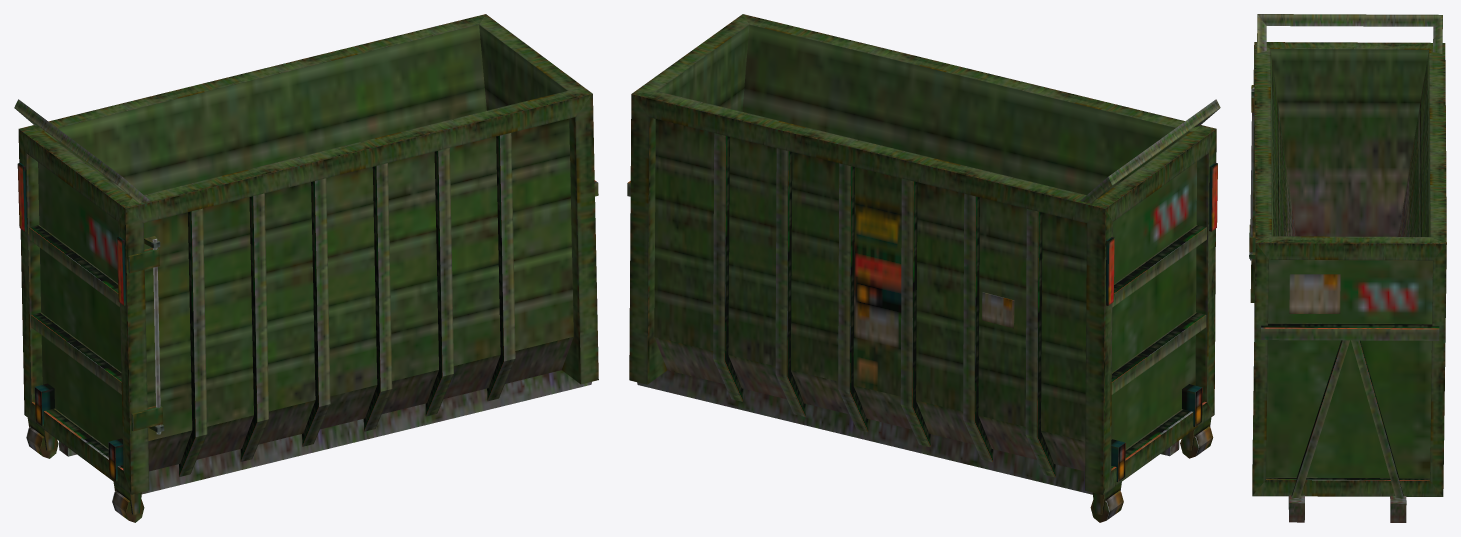
File: LookumD.FBX
3 renders of one model, left to right at view 1: azimuth 30°, elevation 25°; view 2: azimuth 150°, elevation 25°; view 3: azimuth 270°, elevation 25°, orthographic. The views are drawn at different scales.
Visible parts, largest first — view 1: LookumD; view 2: LookumD; view 3: LookumD.
Boxes of the visible parts, bbox=[...] form: LookumD: bbox=[14, 14, 598, 522]; LookumD: bbox=[627, 14, 1220, 522]; LookumD: bbox=[1249, 14, 1446, 522].
Size of the model in its own units: 315 by 211 by 123.
Materials: 1 (1 with a texture image).
